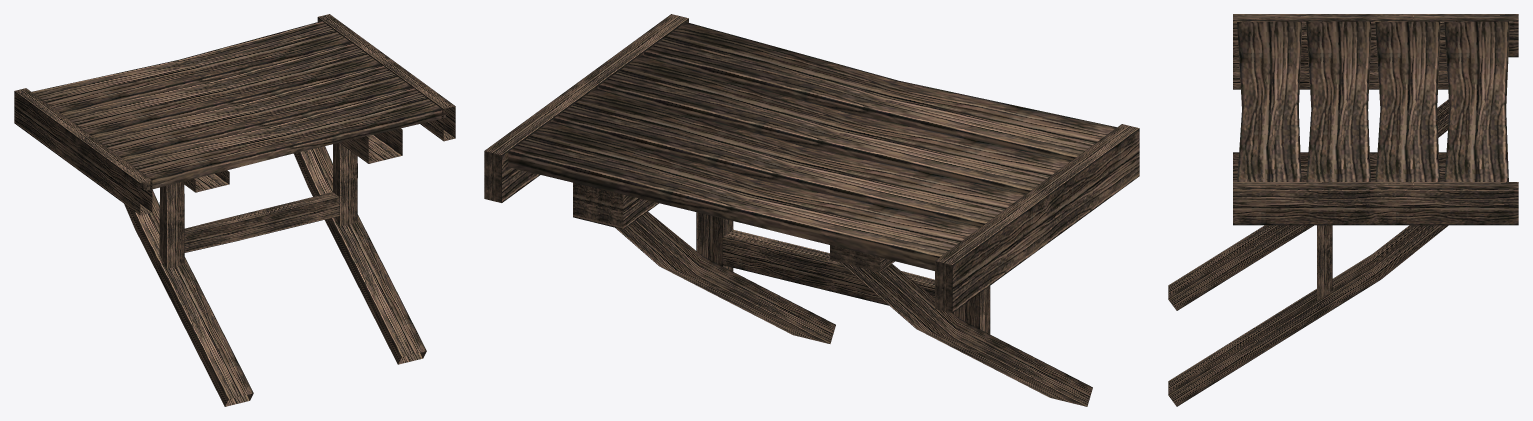
File: CB_LOOKOUT_PLATFORM01.fbx
3 views of the same model, side by side, from view 1: azimuth 30°, elevation 25°; view 2: azimuth 150°, elevation 25°; view 3: azimuth 270°, elevation 25° (orthographic). The views are drawn at different scales.
Parts seen in each view (by area): view 1: CB_LOOKOUT_PLATFORM01; view 2: CB_LOOKOUT_PLATFORM01; view 3: CB_LOOKOUT_PLATFORM01.
Boxes of the visible parts, x1=… form: CB_LOOKOUT_PLATFORM01: x1=14, y1=14, x2=455, y2=406; CB_LOOKOUT_PLATFORM01: x1=484, y1=14, x2=1139, y2=406; CB_LOOKOUT_PLATFORM01: x1=1168, y1=14, x2=1518, y2=406.
Bounding box in the file's own units: 26035 × 17384 × 22089.
1 material, 1 textured.
